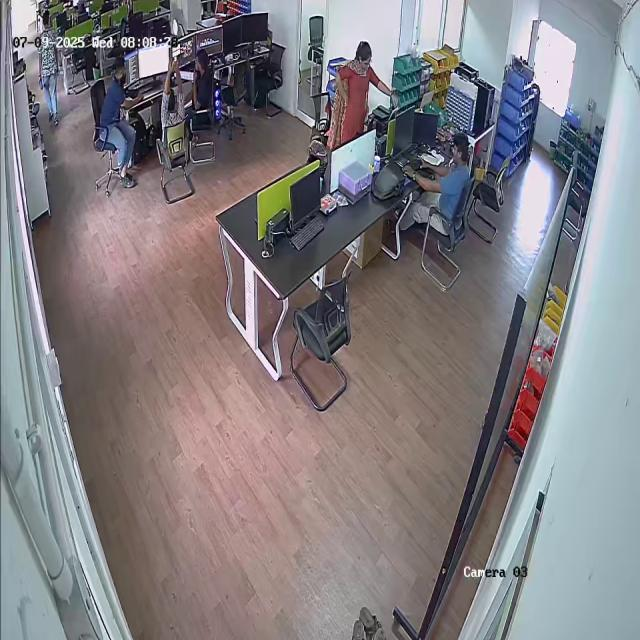person: (426, 133, 478, 269), (328, 40, 394, 144), (98, 58, 144, 188), (38, 11, 61, 128), (157, 60, 186, 146), (192, 48, 218, 130)
